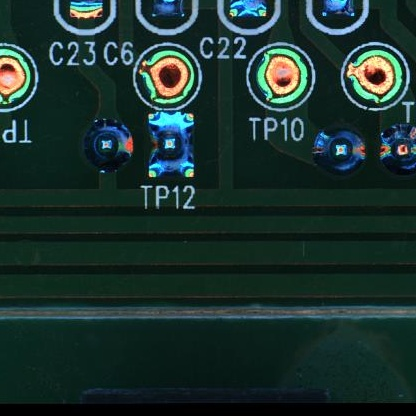spot: (146, 112, 196, 179), (140, 49, 196, 106), (347, 49, 403, 105), (79, 117, 134, 173), (257, 48, 308, 106), (312, 124, 366, 173), (381, 123, 416, 172), (1, 49, 30, 104)
